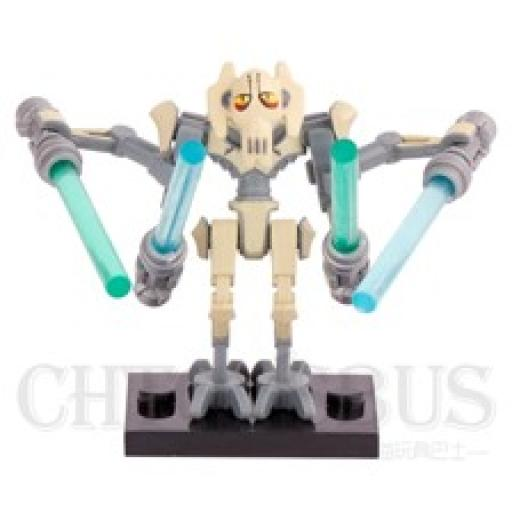lightsaber: (351, 108, 496, 310), (12, 98, 132, 303), (133, 136, 205, 306), (322, 140, 377, 304)
